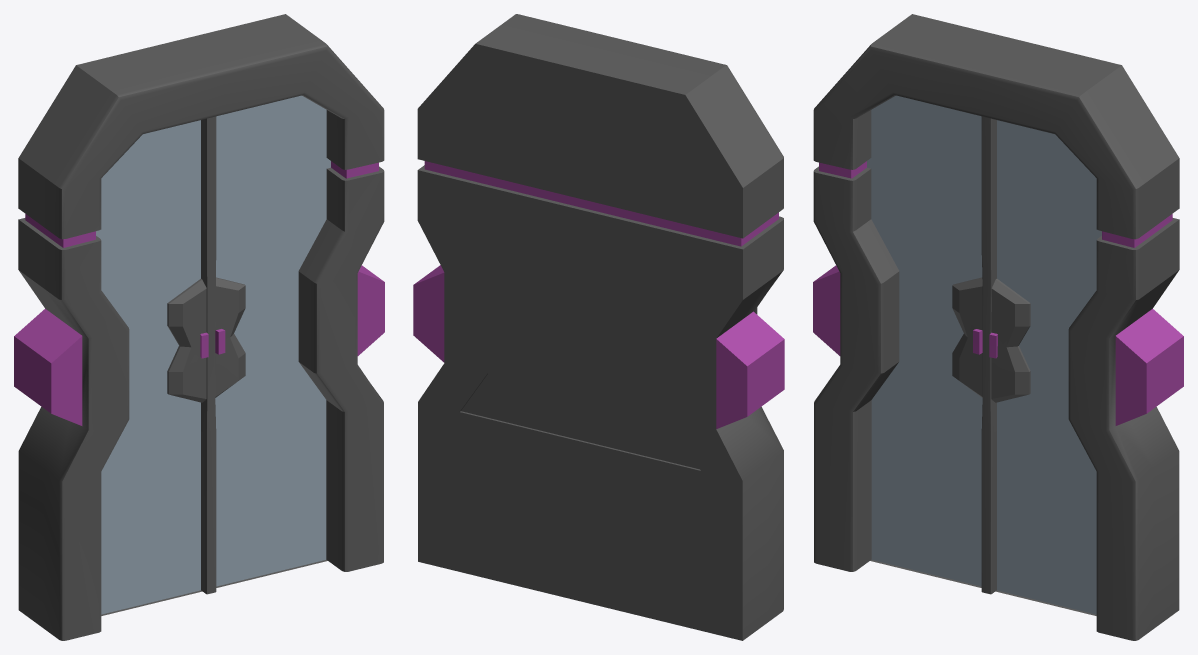
Rendered from Porte 1.fbx.
3 views of the same model, side by side, from view 1: azimuth 30°, elevation 25°; view 2: azimuth 150°, elevation 25°; view 3: azimuth 330°, elevation 25° (orthographic).
Visible parts, largest first — view 1: Porte; view 2: Porte; view 3: Porte.
Part boxes in pixels (x1,y1,x2,y2): Porte: [14, 14, 384, 640]; Porte: [413, 14, 784, 640]; Porte: [813, 14, 1183, 640].
Bounding box in the file's own units: 7.69 × 11.7 × 1.72.
